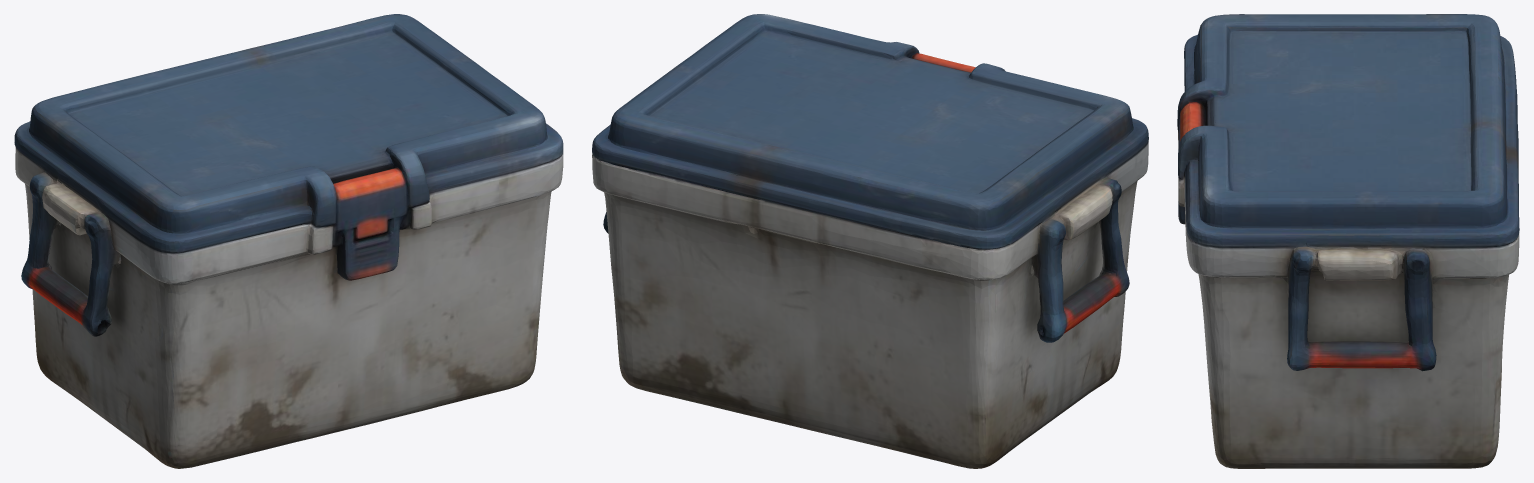
File: coolbox.glb
3 renders of one model, left to right at view 1: azimuth 30°, elevation 25°; view 2: azimuth 150°, elevation 25°; view 3: azimuth 270°, elevation 25°, orthographic.
Visible parts, largest first — view 1: world; view 2: world; view 3: world.
Part boxes in pixels (bbox=[...]): world: bbox=[14, 14, 563, 468]; world: bbox=[592, 14, 1148, 468]; world: bbox=[1177, 14, 1519, 468].
Size of the model in its own units: 0.9986 by 0.5756 by 0.6407.
Materials: 1 (1 with a texture image).
